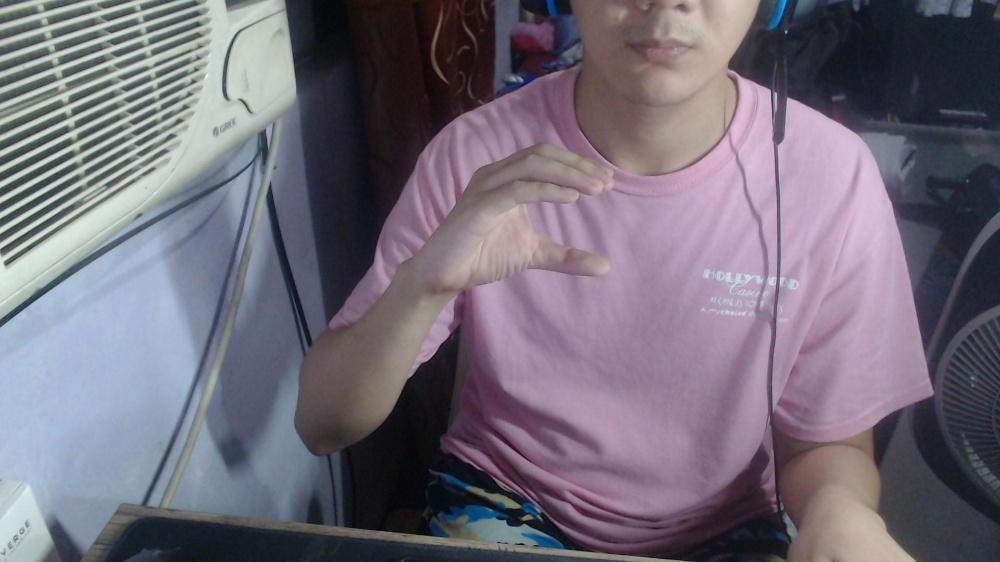c: (412, 140, 617, 295)
